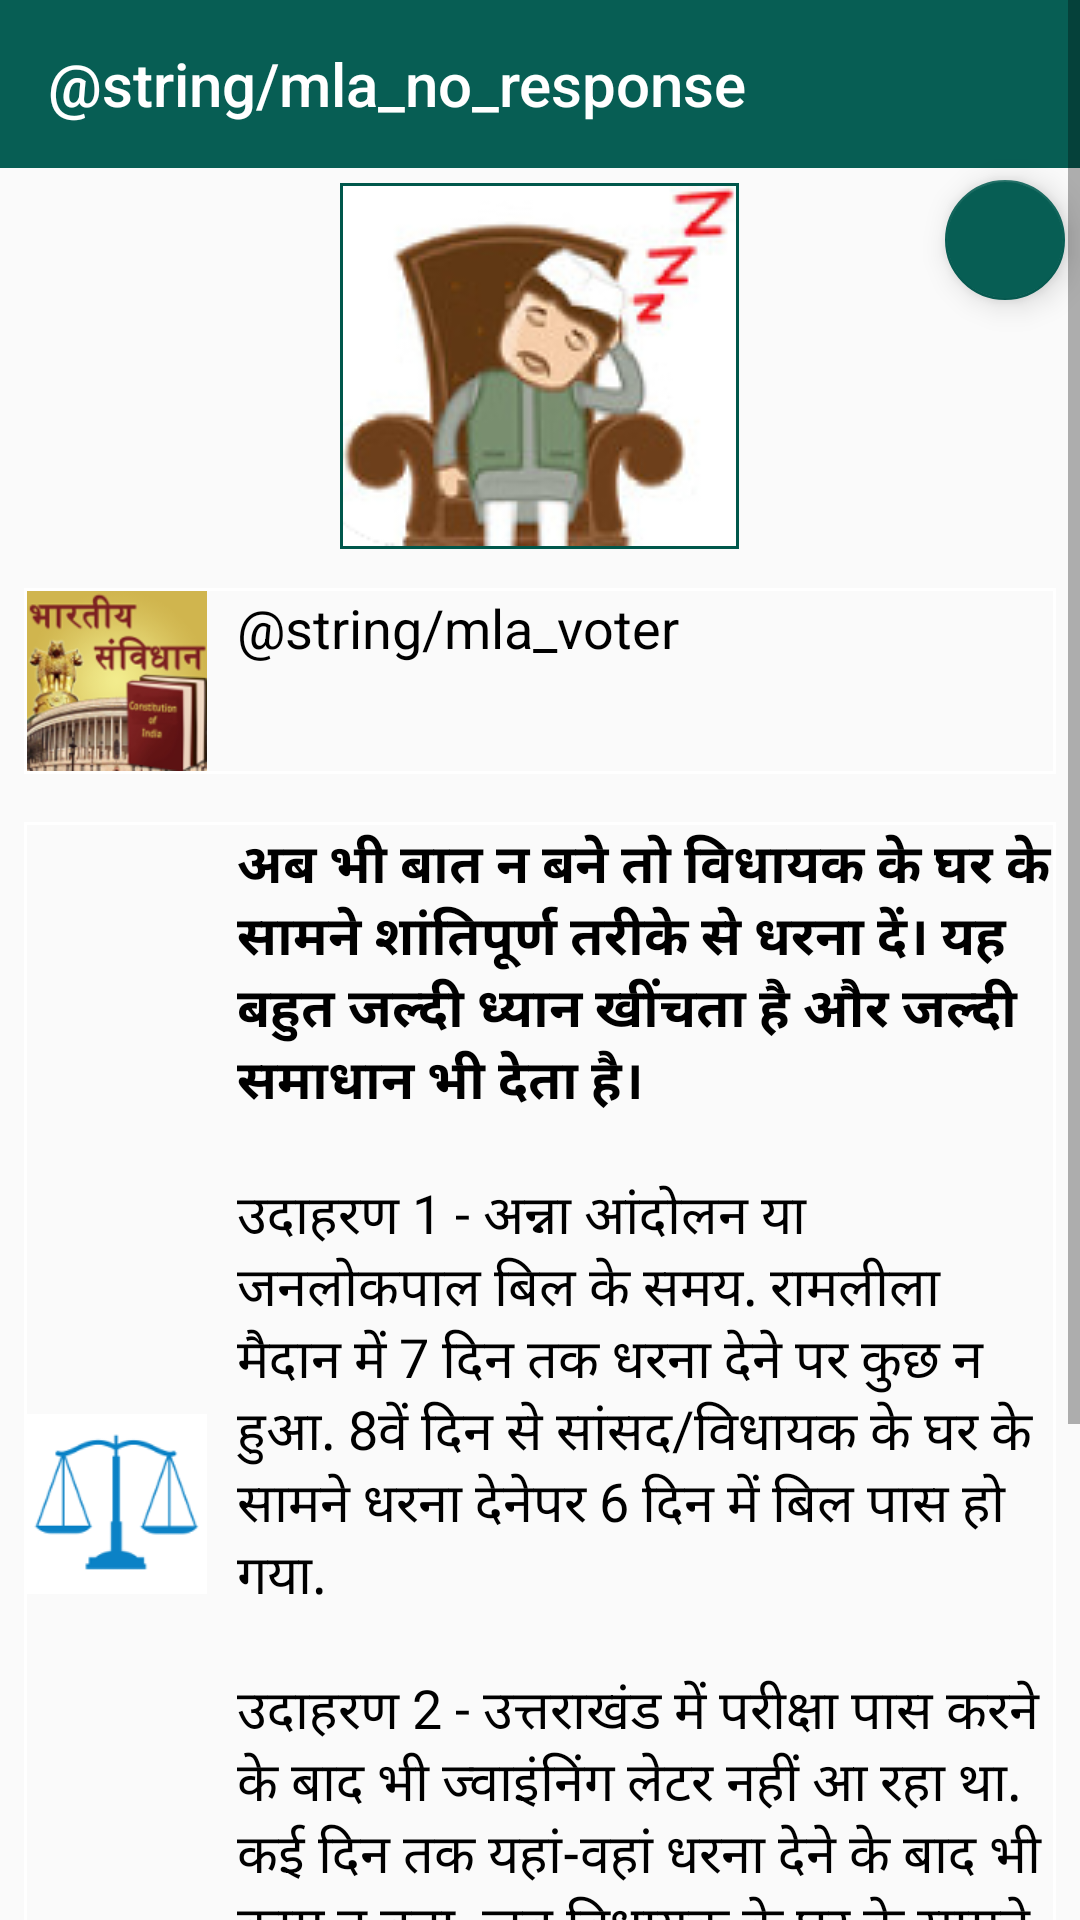

Locate icon controls on the screen. Image size 1080px x 1920px, boxes as (x1, y1, x2, y2).
compay law: (35, 1434, 198, 1570)
